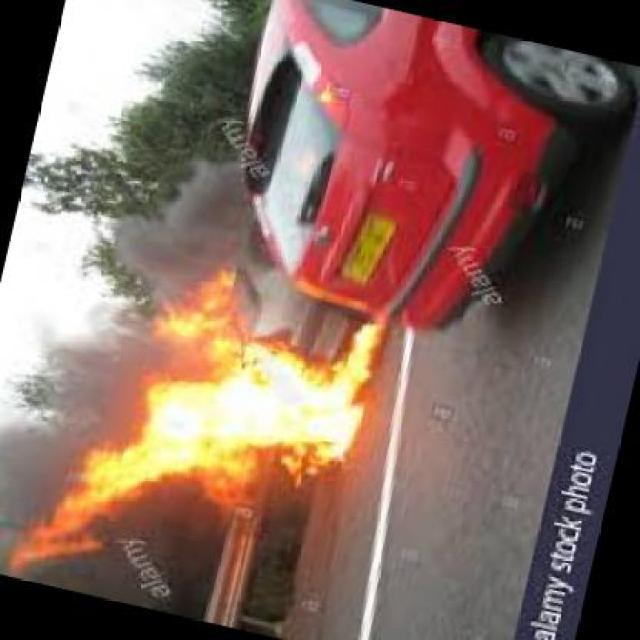Fire: (81, 367, 392, 468), (138, 274, 410, 372), (19, 472, 124, 570)
Smoke: (101, 164, 281, 281), (30, 292, 130, 444), (6, 418, 68, 514)
